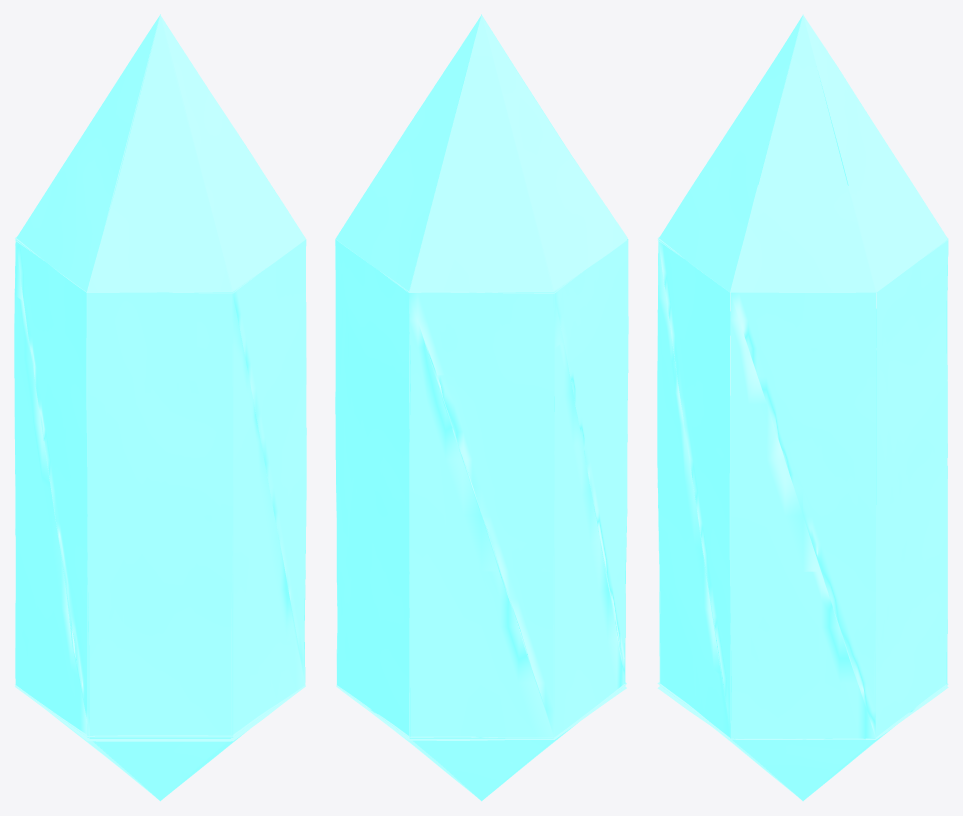
The model's file is crystal2.glb.
3 renders of one model, left to right at view 1: azimuth 30°, elevation 25°; view 2: azimuth 150°, elevation 25°; view 3: azimuth 270°, elevation 25°, orthographic.
Visible parts, largest first — view 1: CrystalGemShaft; view 2: CrystalGemShaft; view 3: CrystalGemShaft.
Boxes of the visible parts, x1,y1,x2,y2 form: CrystalGemShaft: (14,14,306,801); CrystalGemShaft: (335,14,628,801); CrystalGemShaft: (657,14,948,801).
Size of the model in its own units: 0.5949 by 2.03 by 0.6804.
